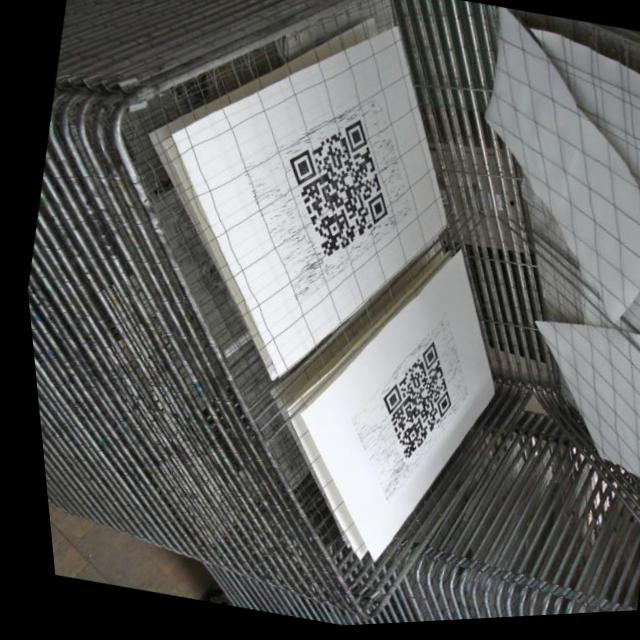qrcode: (261, 108, 407, 278), (356, 336, 461, 475)
